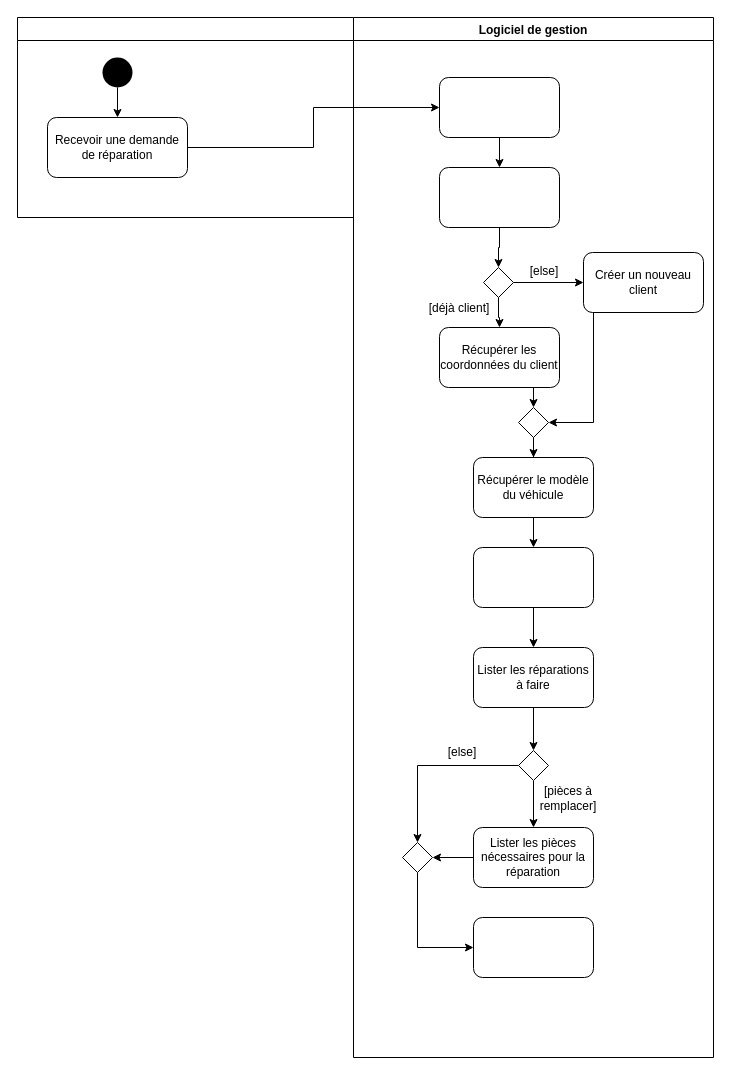
This 731x1075 diagram has some shape labels left out. Here are the shapes that lost their labels. From the top down, the box of each, then its label:
(16, 16, 354, 218): Chef d'atelier
(438, 76, 560, 138): S'authentifier pour accéder au logiciel
(438, 166, 560, 228): Ouvrir une nouvelle fiche de réparation
(472, 546, 594, 608): Identifier l'état du véhicule
